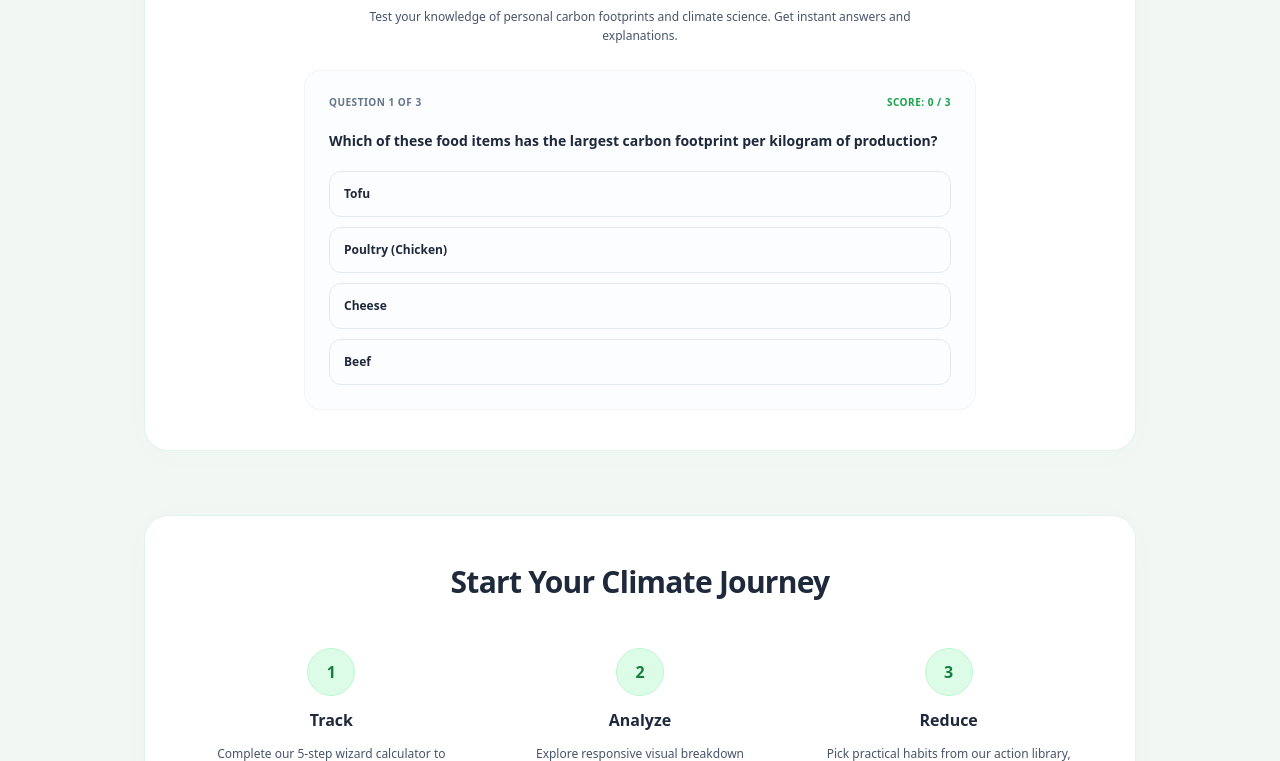
it: HomePage › allows user to interactive click and submit answers in the quiz
This screenshot has width=1280, height=761.
(page scrolled)
Expected: the text with test id "quiz-score" reads "Score: 0 / 3", [887,95,951,110]
// First question: food with largest carbon footprint
Click the button "Beef".
click(357, 361)  # box [329,339,951,385]
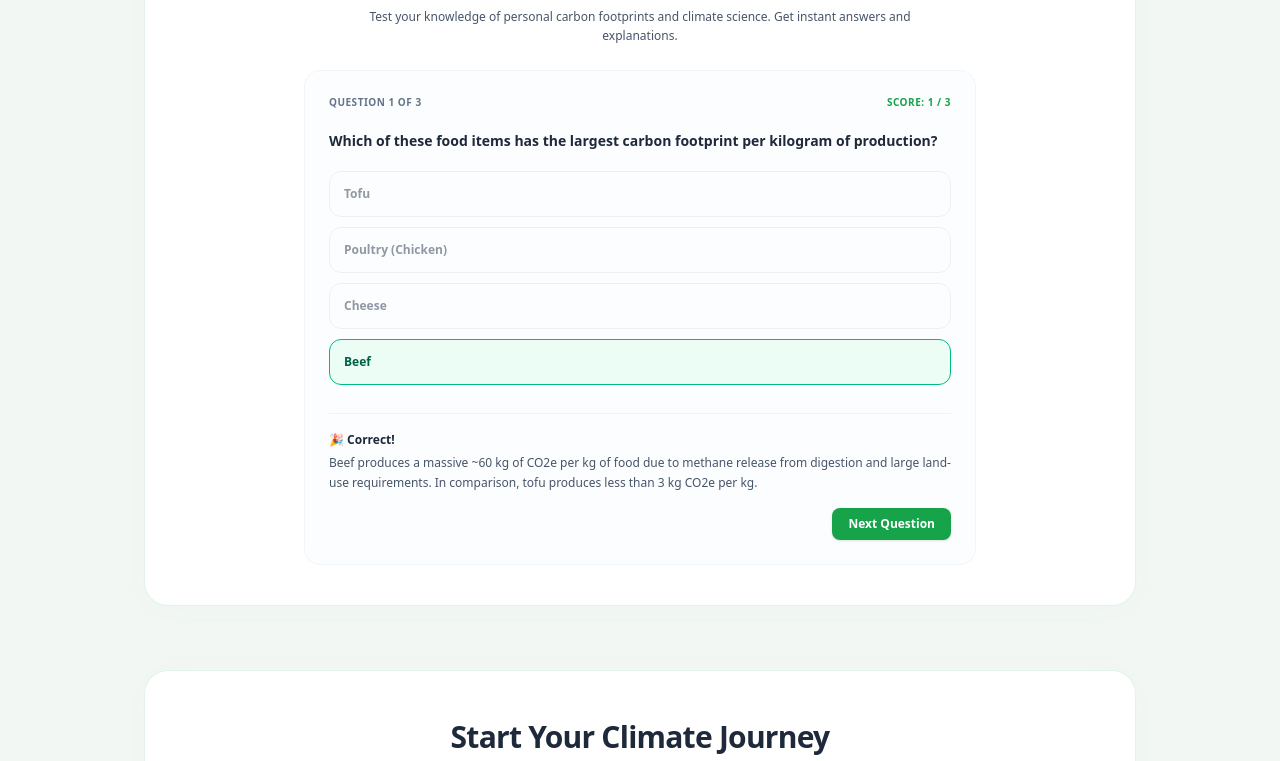
Expected: the text with test id "quiz-result-heading" reads "🎉 Correct!", [329,431,395,448]
Expected: the text with test id "quiz-score" reads "Score: 1 / 3", [887,95,951,110]
// Click next
Click the button with test id "next-quiz-btn".
click(892, 524)  # box [832,508,951,540]
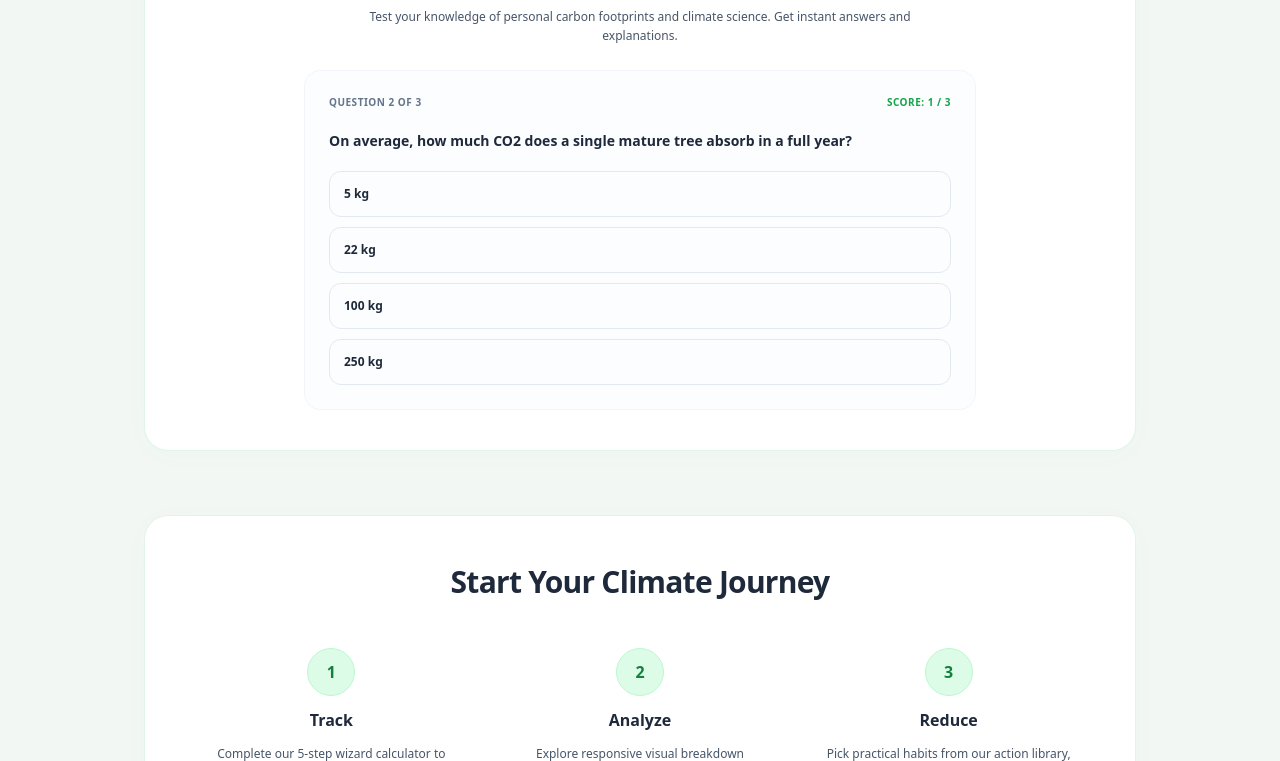
Expected: the heading with test id "quiz-question-text" shows "On average, how much CO2 does a single mature tree absorb in a full year", [329,131,852,150]
